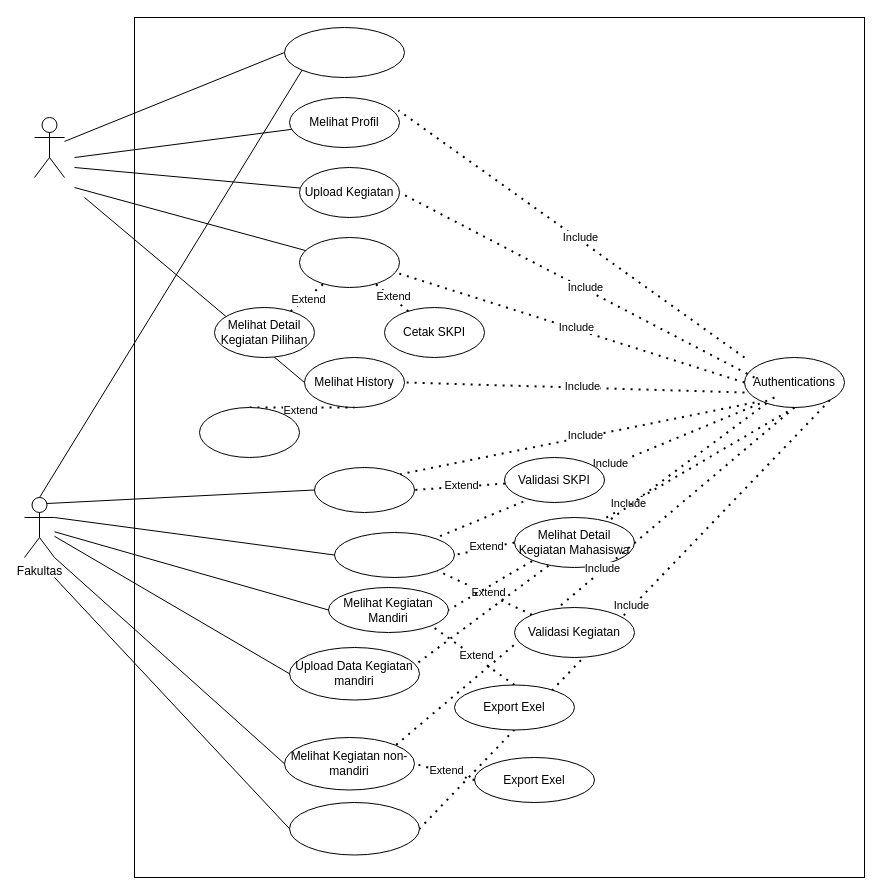
Image size: 882x895. Some labels were removed from this diagram. Here are the shapes that lost their labels. From the top down, the centre of each, then its label:
At (x=344, y=52): "Melihat Landing Page".
At (x=49, y=147): "Mahasiswa".
At (x=349, y=262): "Melihat Transkrip".
At (x=249, y=432): "Melihat Alasan Ditolak".
At (x=364, y=489): "Melihat Data SKPI".
At (x=394, y=555): "Melihat Data Kegiatan Mahasiswa".
At (x=354, y=828): "Upload Data kegiatan non-mandiri".
